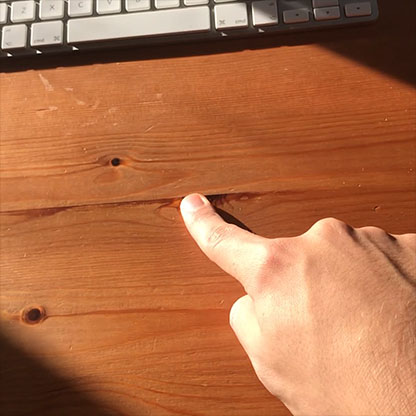fingertip: (171, 182, 217, 221)
